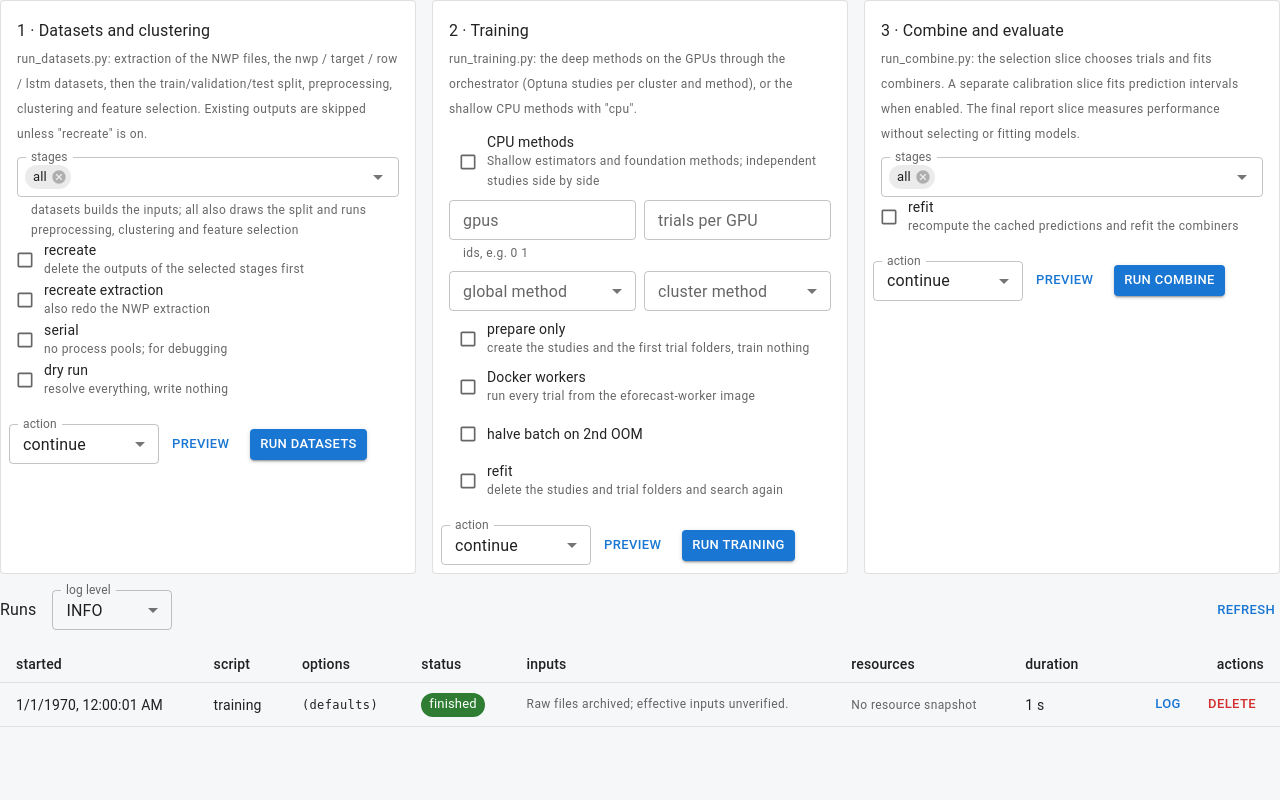
Test: run actions and failures › shows raw input provenance in the run list and log
Check: the text "Raw files archived; effective inputs unverified." is shown, box [527, 695, 819, 714]
Step 1. Click the button "Log" → x=1168, y=705, box [1136, 689, 1200, 720]
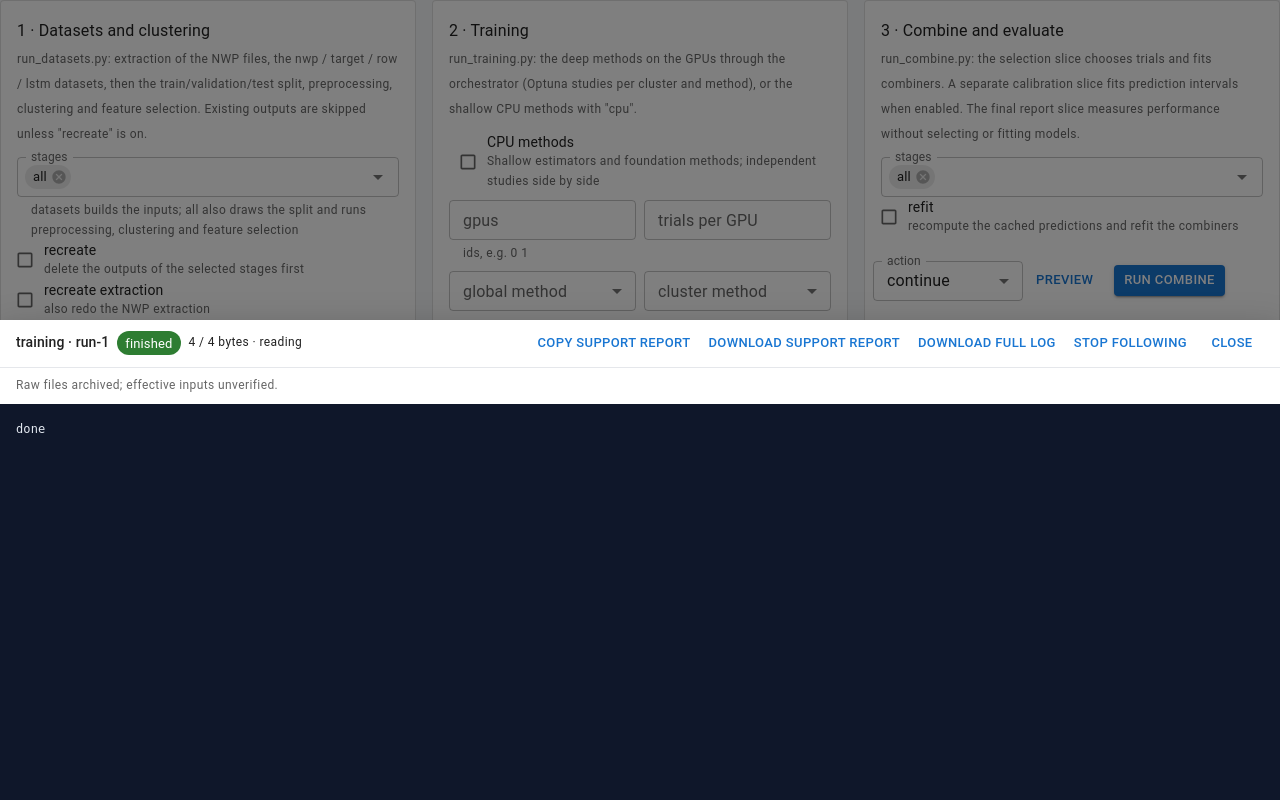
Check: the text "done" is shown, box [0, 404, 1279, 799]
Check: the text "Raw files archived; effective inputs unverified." is shown, box [16, 378, 278, 392]
